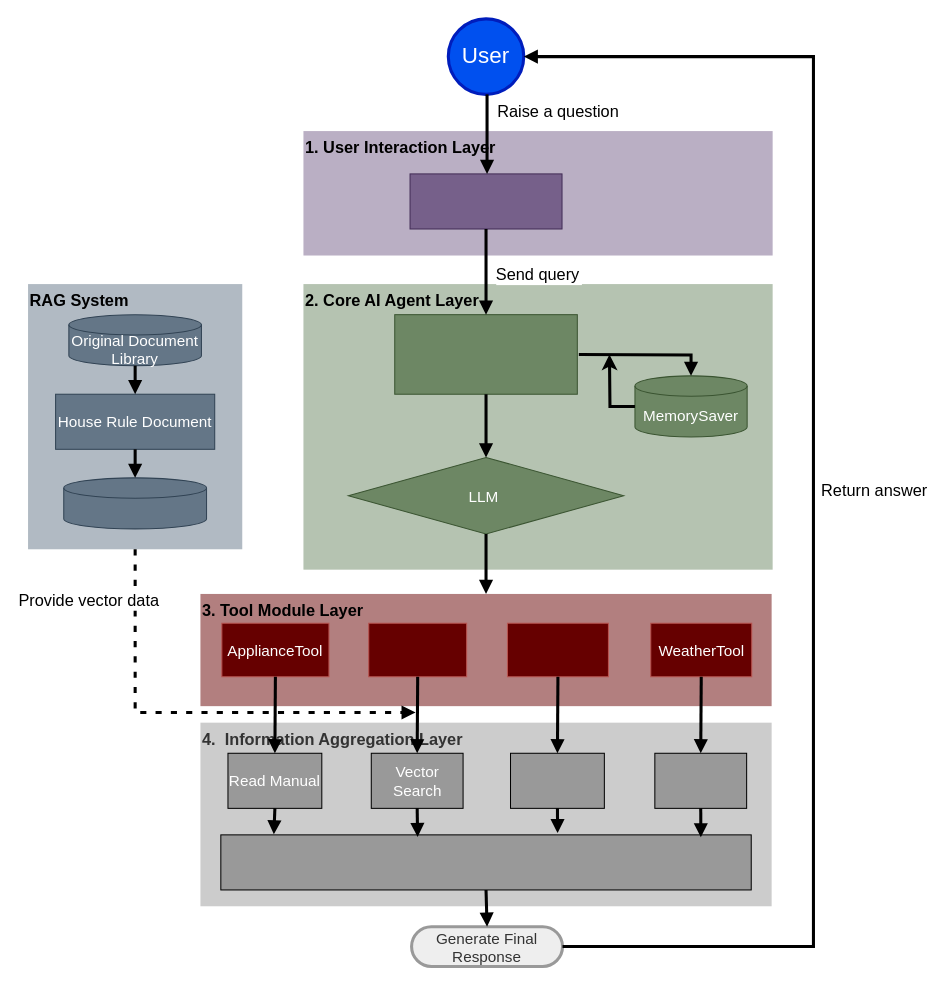
The diagram is 946 pixels wide and 985 high, and some of its shapes have lost their labels. The shapes that lost their labels are listed below. From the top down, each one's centre as x and y in pixels, then its label:
At pixel 485 201: "FastAPI Backend".
At pixel 485 354: "LangChain Agent Execution".
At pixel 135 503: "Vector Database".
At pixel 417 649: "RulesTool".
At pixel 557 649: "Shuttle Bus Tool".
At pixel 556 780: "Find Shuttle Bus Schedule".
At pixel 700 780: "Call Weather API".
At pixel 485 862: "Result".
